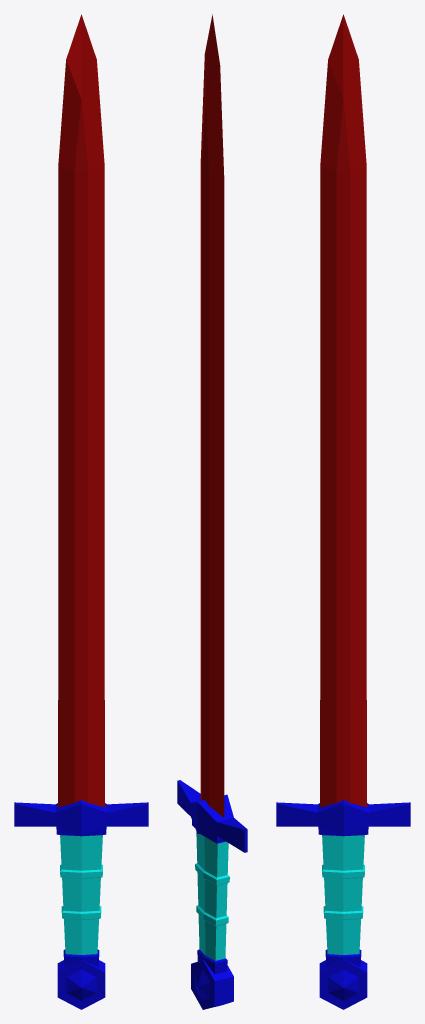
File: Sword_Common_ElongatedDirk.fbx
The picture shows the model from 3 angles, left to right: view 1: azimuth 90°, elevation 25°; view 2: azimuth 210°, elevation 25°; view 3: azimuth 270°, elevation 25°; orthographic projection.
Parts seen in each view (by area): view 1: SM_Wep_Sword_10; view 2: SM_Wep_Sword_10; view 3: SM_Wep_Sword_10.
Part boxes in pixels (x1,y1,x2,y2): SM_Wep_Sword_10: (14, 14, 148, 1009); SM_Wep_Sword_10: (177, 14, 247, 1009); SM_Wep_Sword_10: (276, 14, 410, 1009).
Bounding box in the file's own units: 4.89 × 152 × 18.6.
